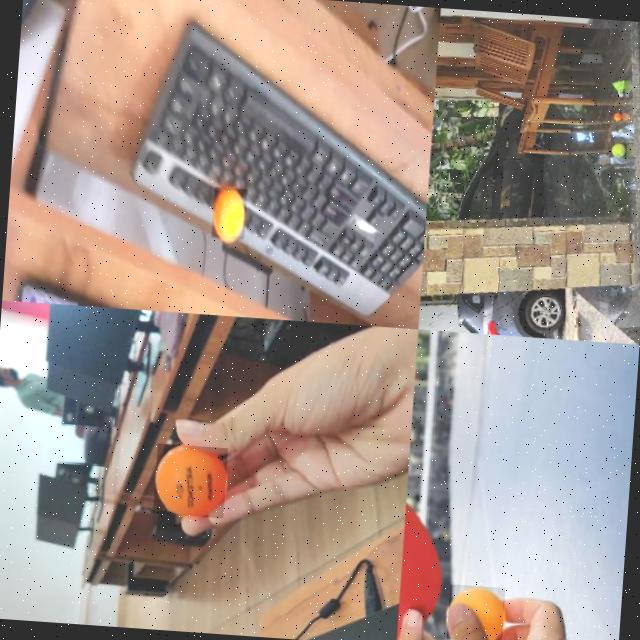ping-pong-ball: (151, 442, 228, 520), (444, 583, 506, 640), (209, 186, 247, 241), (612, 110, 620, 120)
